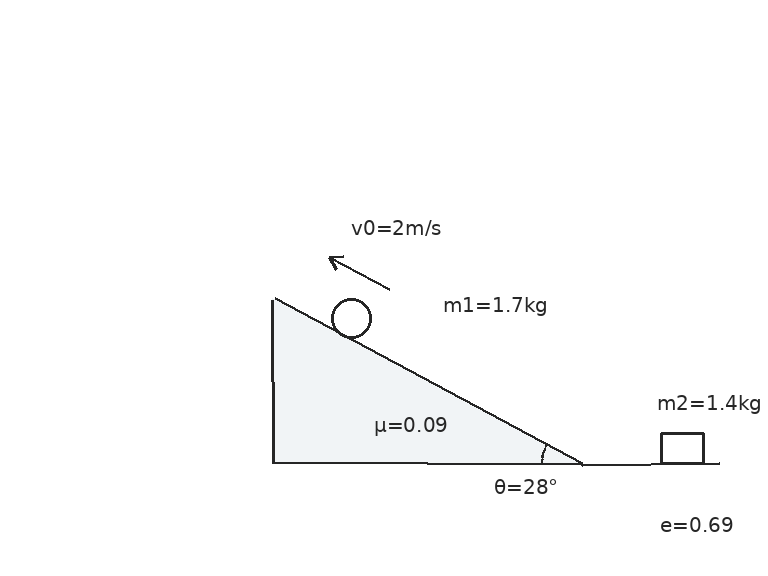ball: (329, 296, 373, 340)
block: (659, 430, 705, 465)
ramp: (271, 297, 584, 465)
